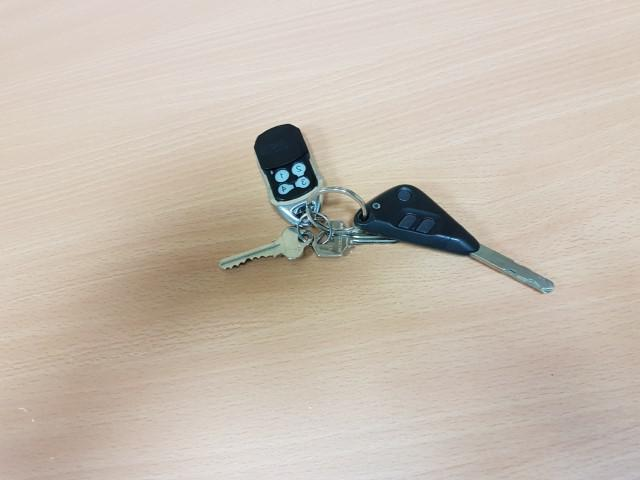key: (353, 184, 555, 291)
